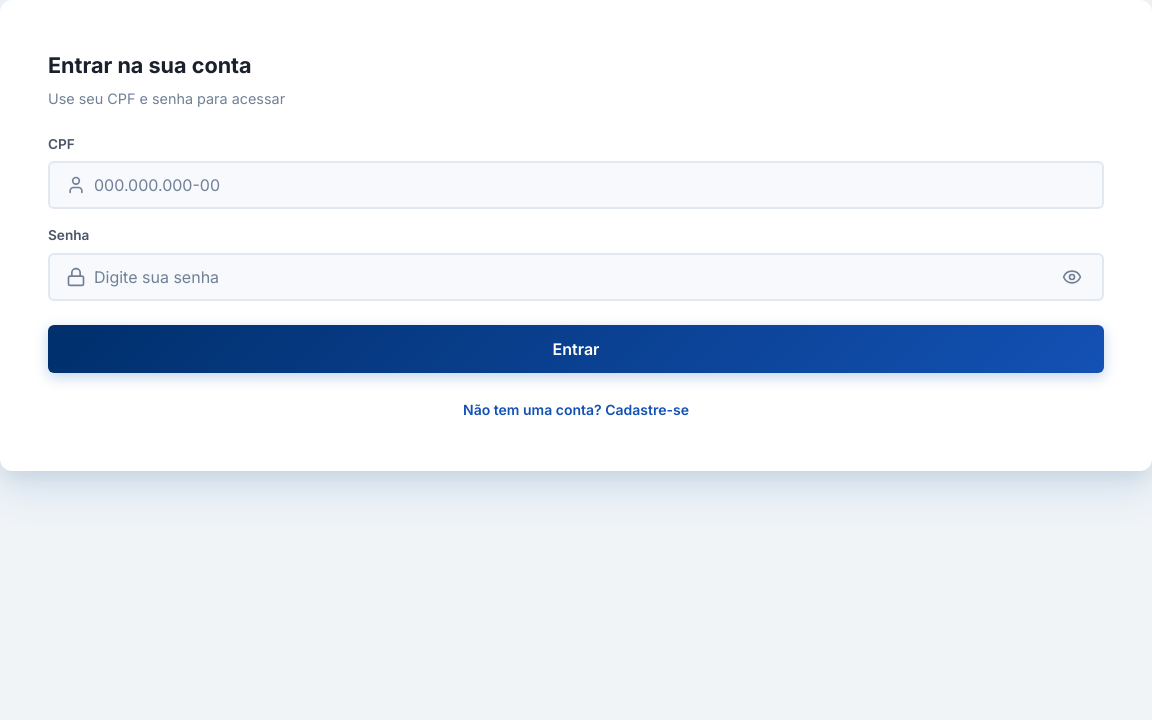
Test: 🔐 LoginForm — Validação de Formulário › TC-L04 | Deve exibir erro se senha tiver menos de 6 caracteres
In the password field with placeholder "Digite sua senha": {"x": 576, "y": 277} [94, 259, 1058, 295], type "123"
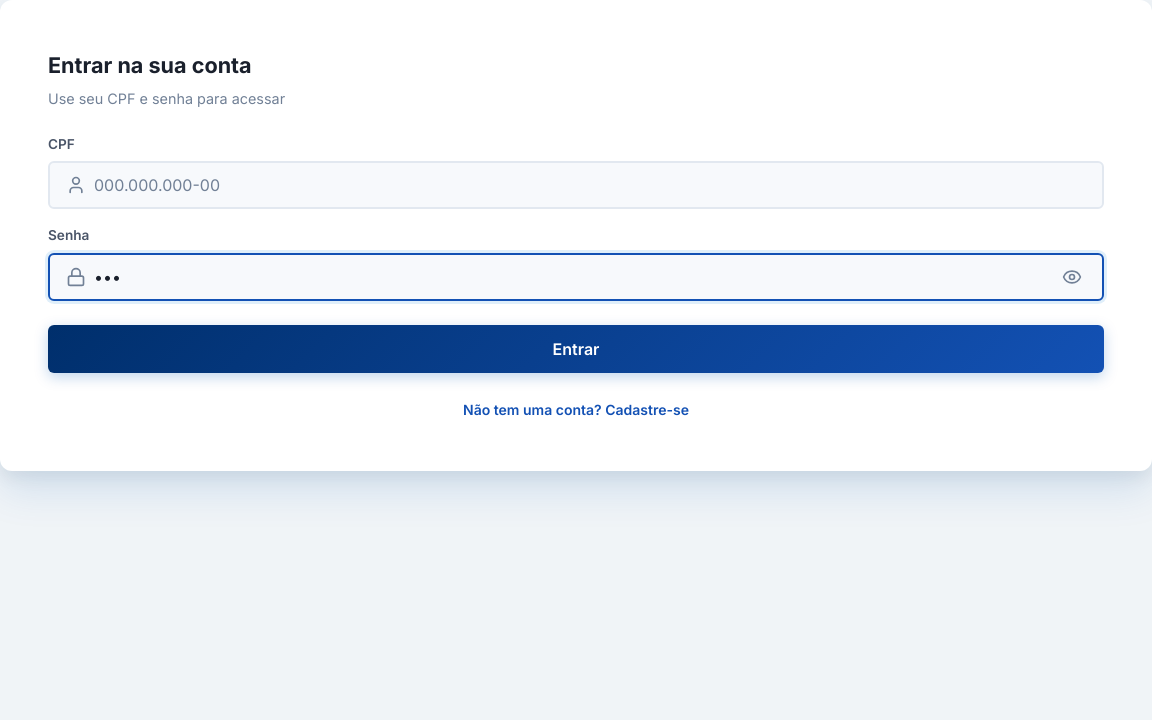
Click the button "Entrar": {"x": 576, "y": 349} [48, 325, 1104, 373]
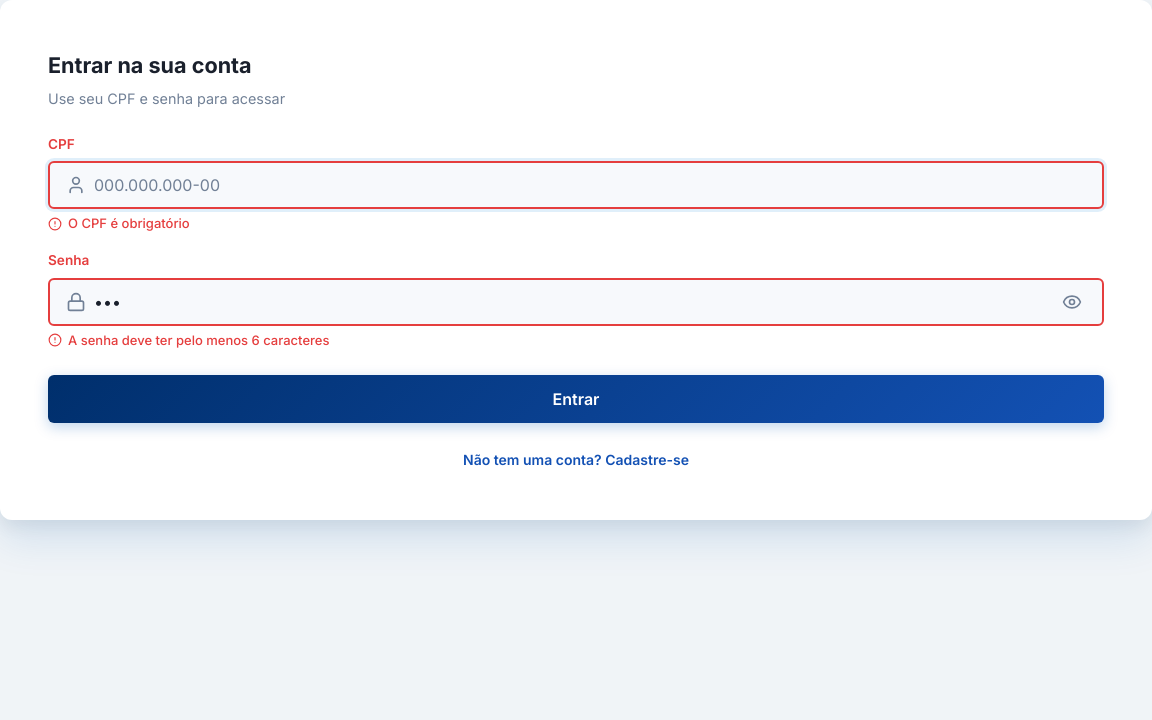
Result: the text "A senha deve ter pelo menos 6 caracteres" is shown at [48, 332, 330, 348]
